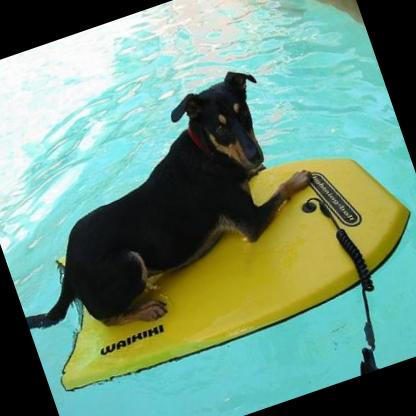kelpie: (0, 54, 337, 358)
